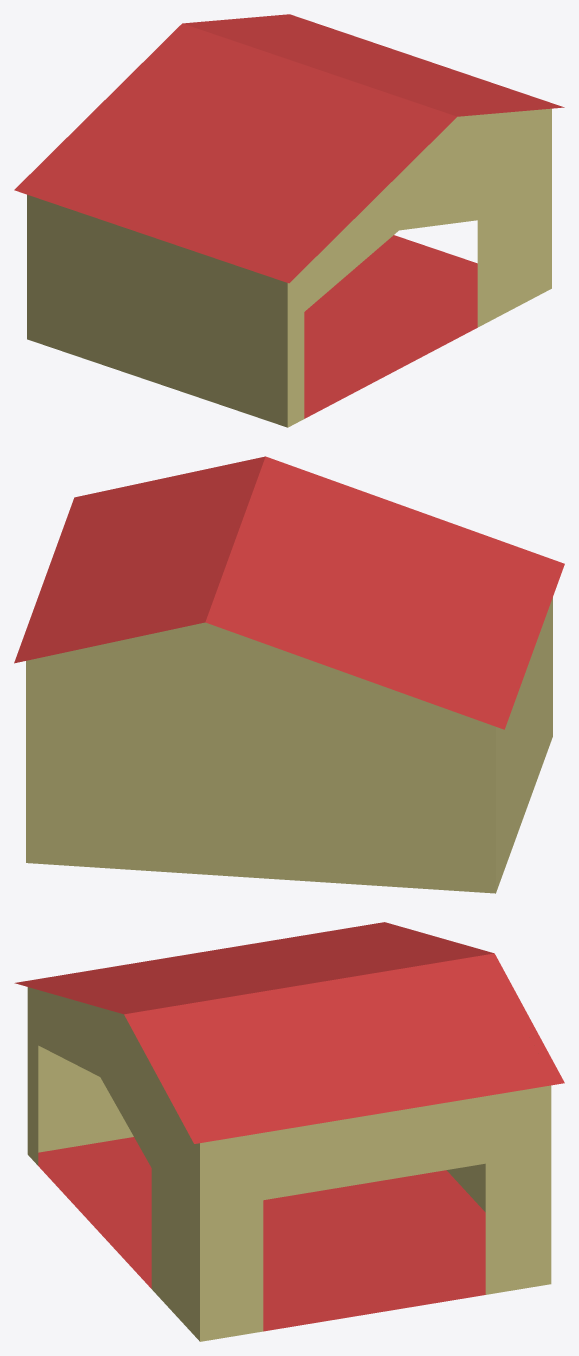
3 renders of one model, top to bottom at view 1: azimuth 30°, elevation 25°; view 2: azimuth 150°, elevation 25°; view 3: azimuth 270°, elevation 25°, orthographic. The views are drawn at different scales.
Size of the model in its own units: 29.03 by 26.34 by 13.55.
